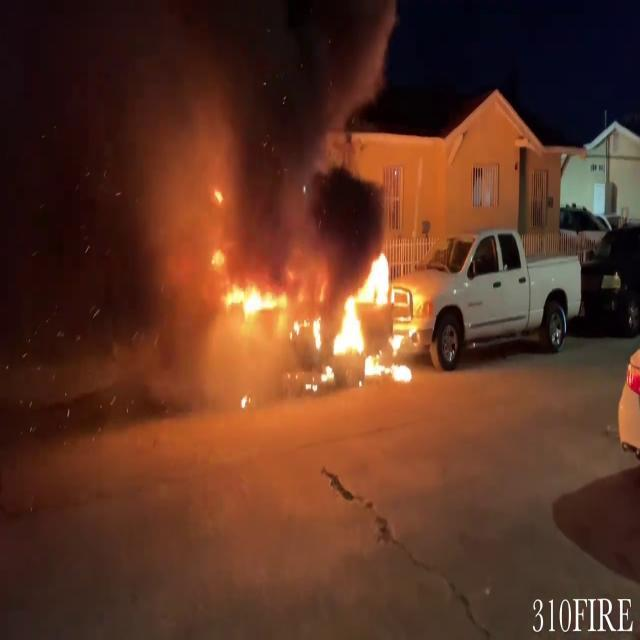Fire: (219, 243, 423, 387)
Smoke: (124, 0, 402, 270)
